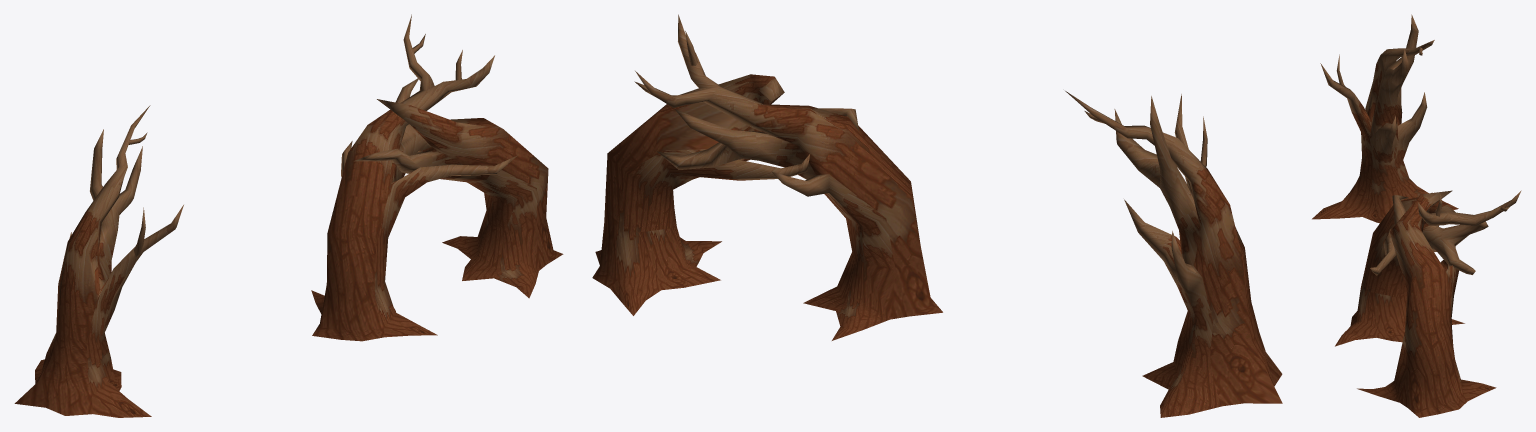
File: three01.FBX
3 views of the same model, side by side, from view 1: azimuth 30°, elevation 25°; view 2: azimuth 150°, elevation 25°; view 3: azimuth 270°, elevation 25° (orthographic). The views are drawn at different scales.
Parts seen in each view (by area): view 1: Object022; view 2: Object022; view 3: Object022.
Boxes of the visible parts, <box> form: Object022: <box>14,14,563,417</box>; Object022: <box>592,14,1282,417</box>; Object022: <box>1312,14,1521,417</box>.
Size of the model in its own units: 1214 by 506 by 455.
